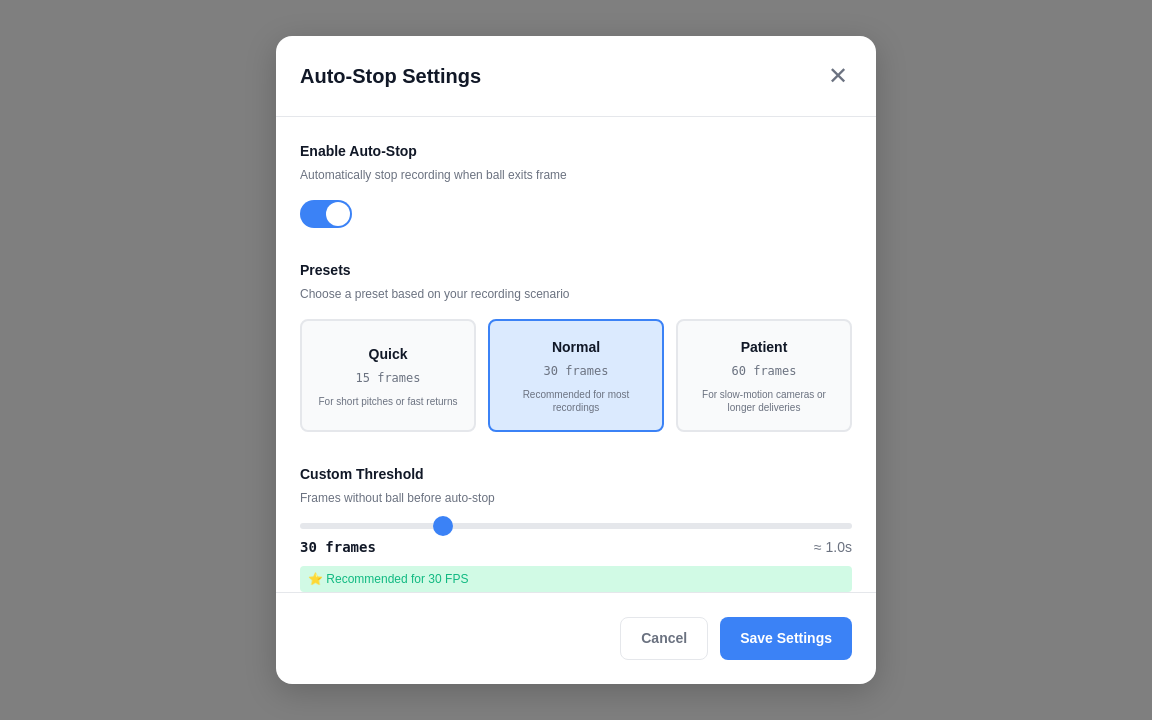
Test: AutoStopSettings › Preset Selection › updates slider when preset selected
Click the button "Patient".
click(764, 376)  # box [676,319,852,432]
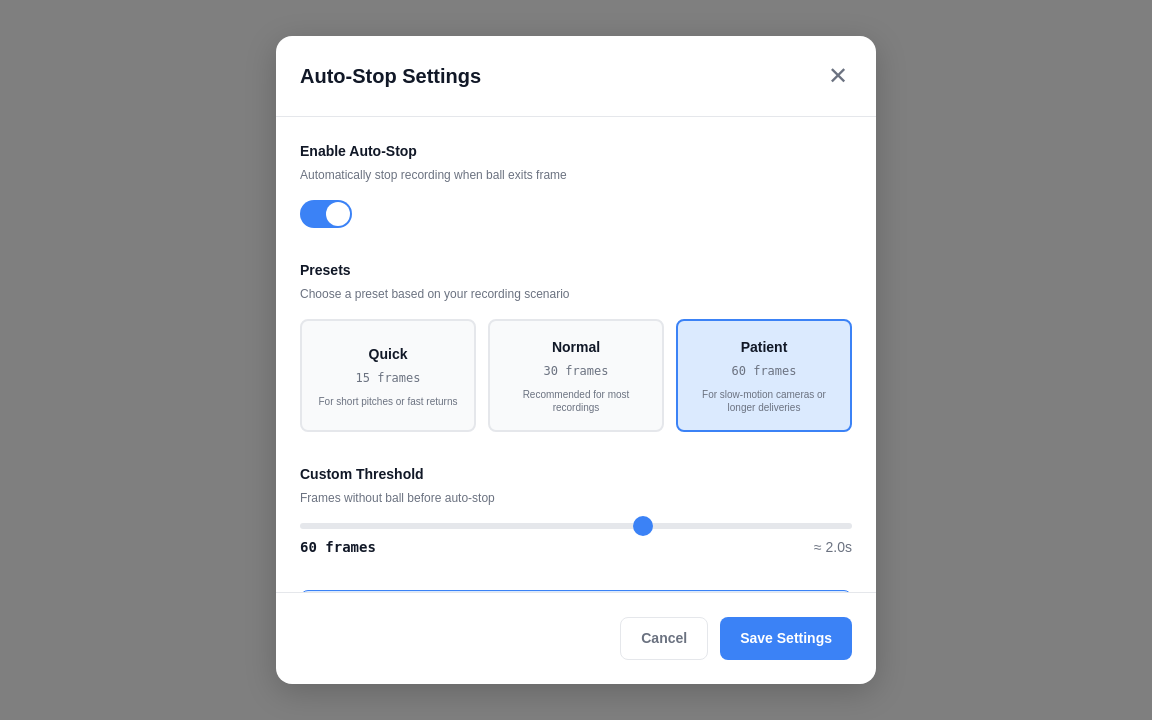
Result: the slider holds "60" at [300,523,852,529]
